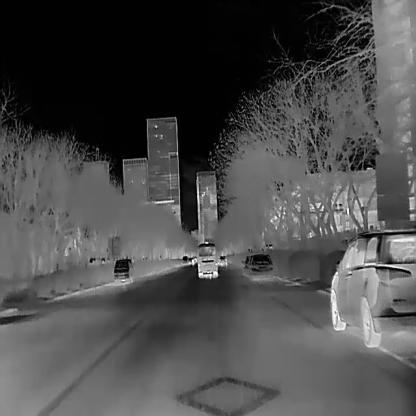car: (330, 226, 416, 347), (196, 241, 218, 277), (247, 254, 272, 280), (112, 259, 133, 285), (181, 254, 188, 264)
